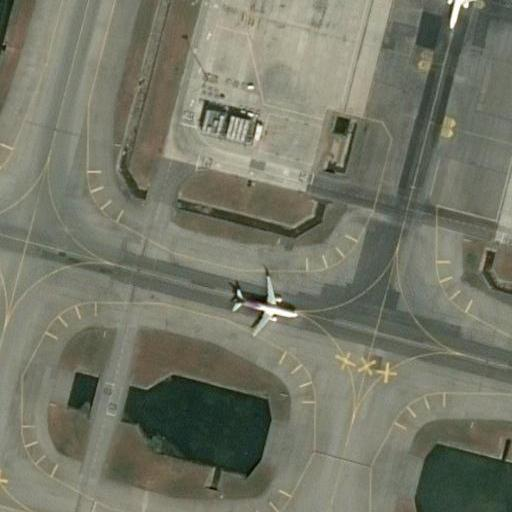Aircraft: (231, 271, 304, 334), (418, 0, 493, 31)
